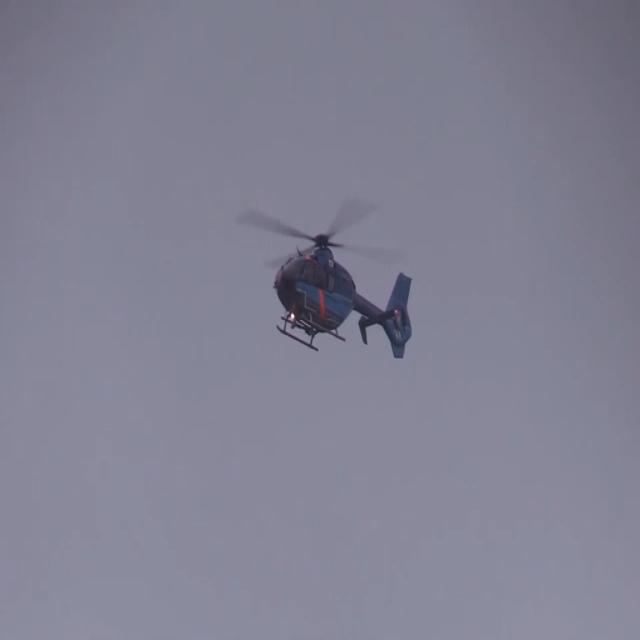Helicopter: (226, 176, 447, 385)
